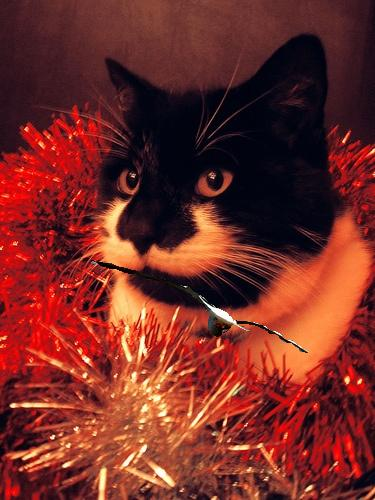tampered: (91, 261, 308, 353)
